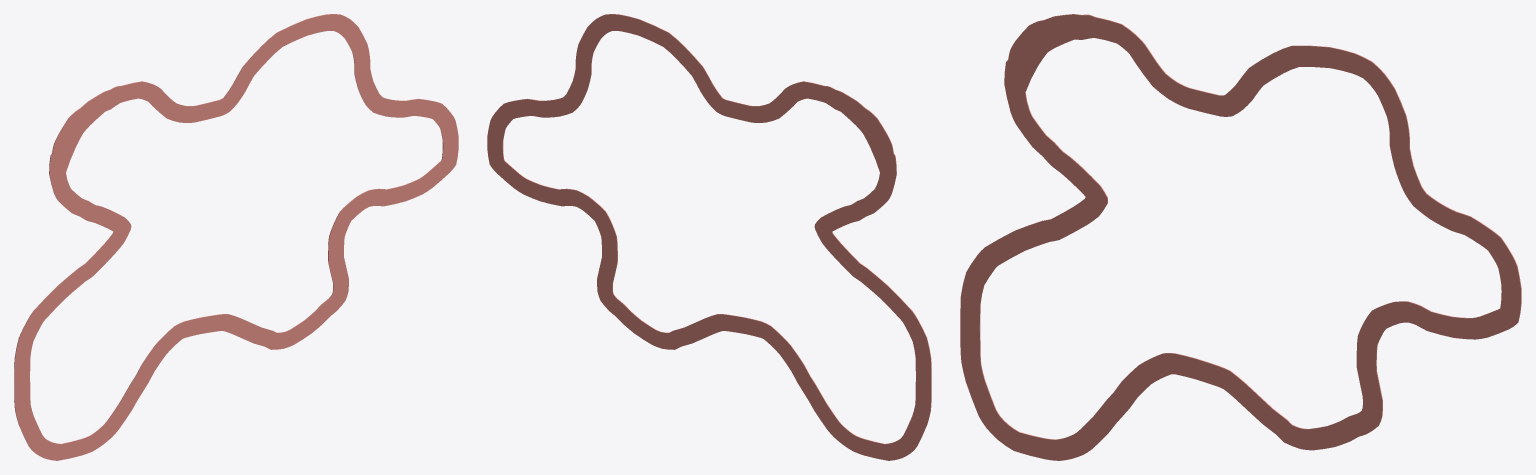
Rendered from tinker.obj.
3 renders of one model, left to right at view 1: azimuth 30°, elevation 25°; view 2: azimuth 150°, elevation 25°; view 3: azimuth 330°, elevation 25°, orthographic. The views are drawn at different scales.
Parts seen in each view (by area): view 1: obj_0; view 2: obj_0; view 3: obj_0.
Boxes of the visible parts, x1,y1,x2,y2 form: obj_0: (14, 14, 458, 460); obj_0: (487, 14, 931, 460); obj_0: (960, 14, 1521, 460).
Bounding box in the file's own units: 57.22 × 46.95 × 0.1.
